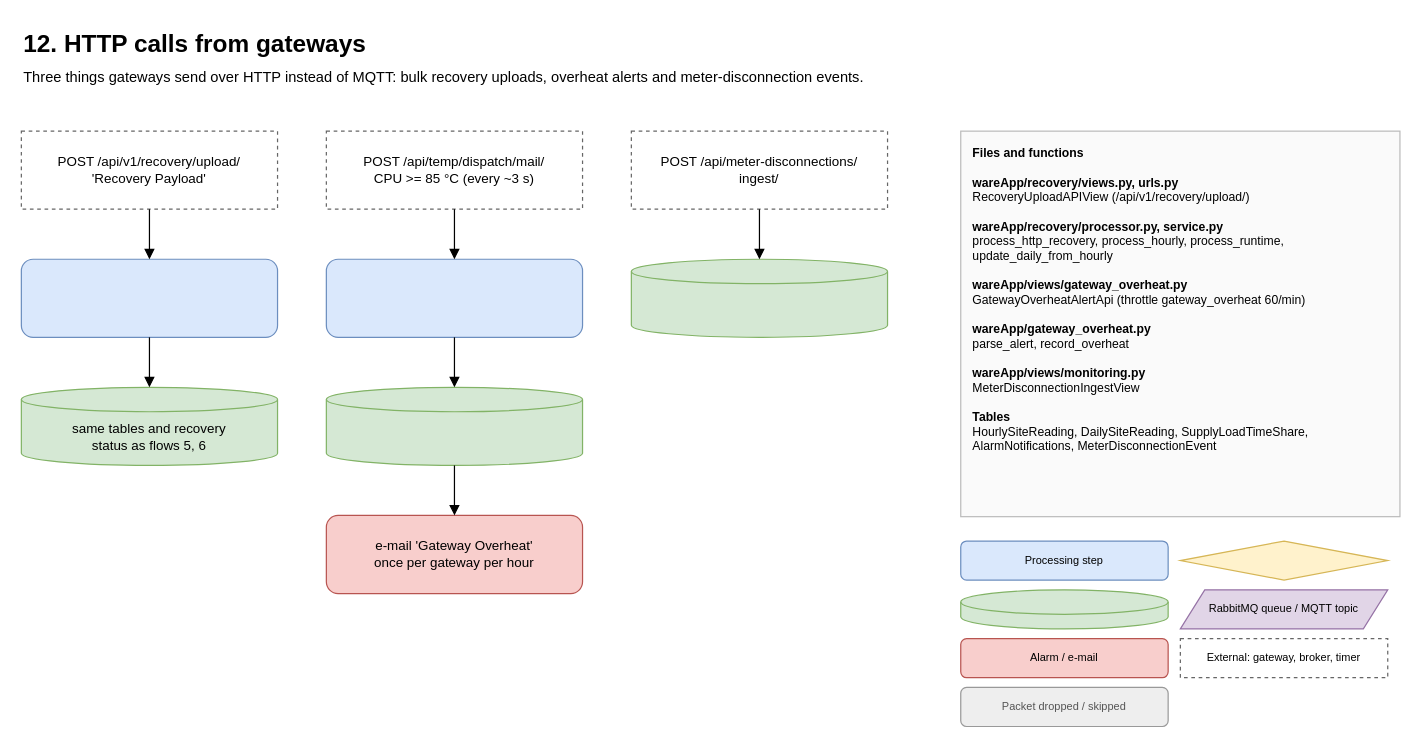
This 1421x748 diagram has some shape labels left out. The shapes that lost their labels are listed below. From the top down, each one's centre as x and y in pixels, then its label:
(x=149, y=297): process_http_recovery hourly / daily / runtime
(x=454, y=297): parse_alert: site, gateway, temperature
(x=759, y=297): MeterDisconnectionEvent (create or update window)
(x=454, y=425): store once / 60 s: AlarmNotifications type 13 (1 row per gateway per day)
(x=1283, y=560): Decision
(x=1064, y=609): Database table
